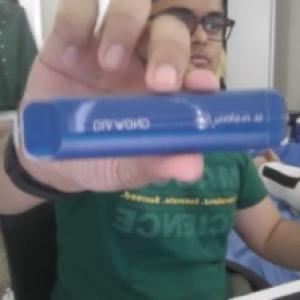Diamond-E-Ciggirate: (12, 81, 292, 168)
